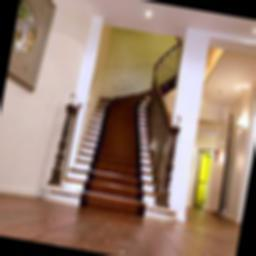Escaleras: (69, 91, 177, 217)
